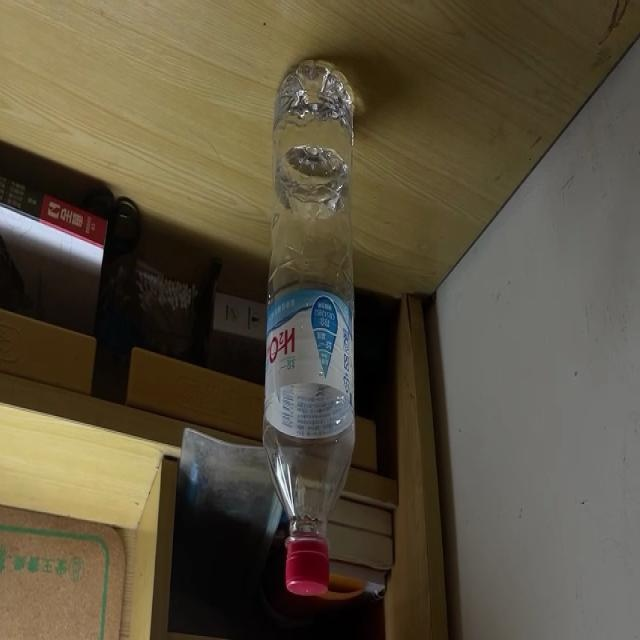Water: (262, 59, 355, 596)
